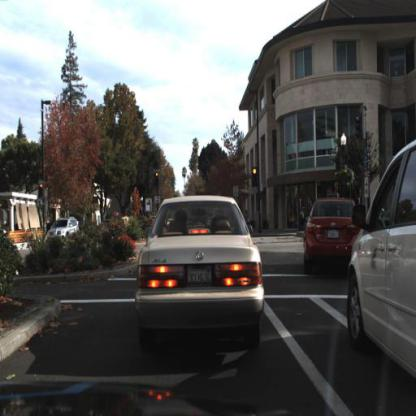car: (332, 127, 416, 386), (130, 195, 267, 352), (301, 191, 368, 279), (47, 216, 81, 243)
trafficLight-Red: (37, 183, 44, 201), (154, 171, 160, 189), (253, 167, 258, 188)
